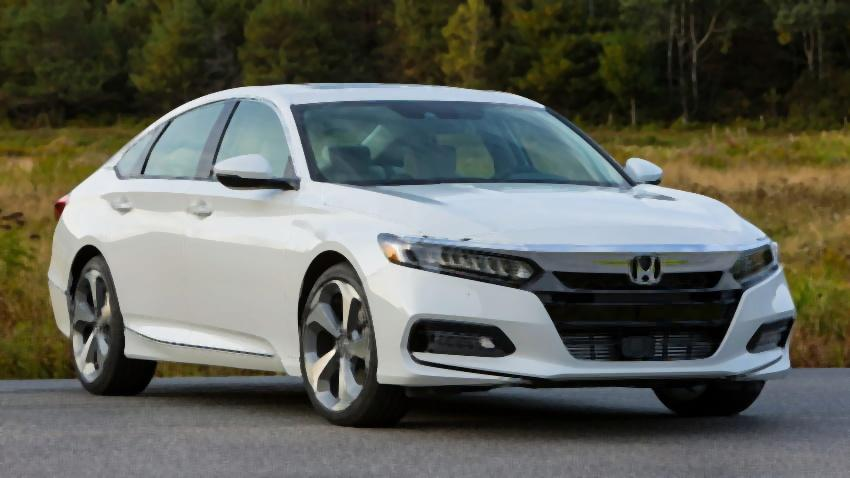Car hood: (312, 179, 783, 256)
Driver-s door - -F-R-: (189, 87, 302, 362)
Fender - -F-R-: (291, 161, 387, 379)
Fender - -R-R-: (56, 191, 133, 370)
Front bumper: (364, 279, 817, 400)
Headlight - -L-: (717, 232, 787, 288)
Headlight - -R-: (373, 227, 546, 289)
Passenger-s door - -R-R-: (93, 84, 199, 341)
Rear bumper: (33, 244, 83, 334)
Rear light - -R-: (33, 176, 82, 228)
Side bumper - -R-: (112, 322, 302, 387)
Side mirror - -L-: (609, 146, 668, 190)
Side mirror - -R-: (203, 143, 296, 204)
